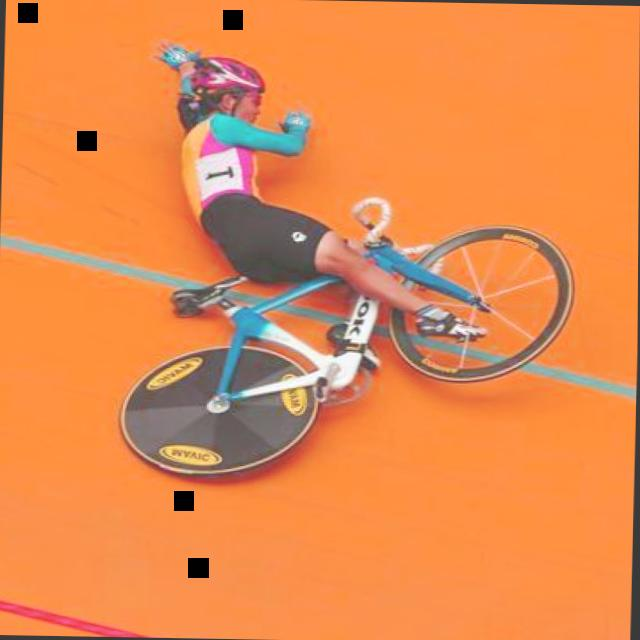Fall-Detected: (151, 17, 511, 350)
